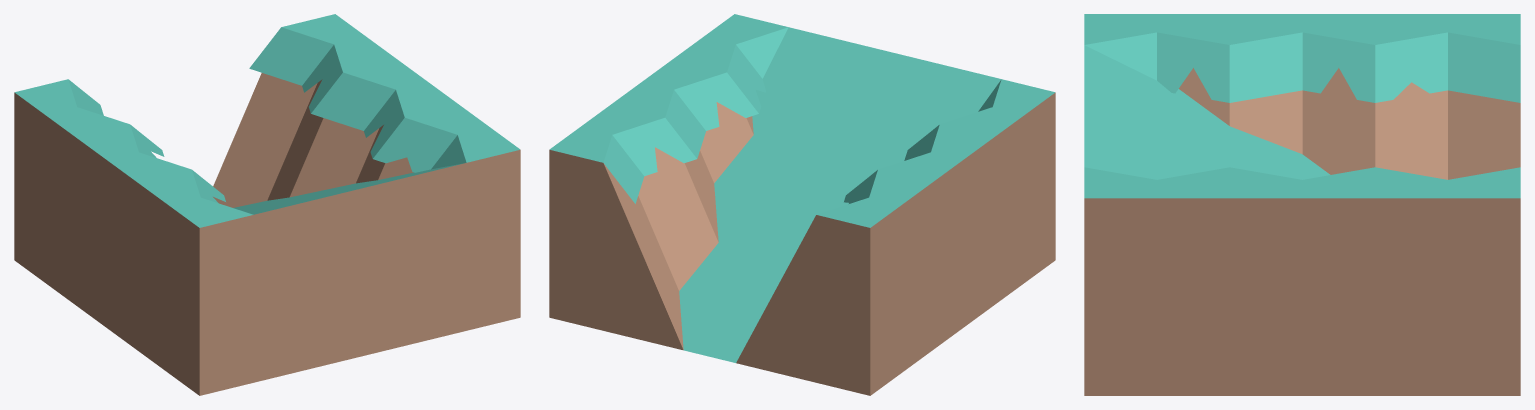
The model's file is cliff_blockSlopeHalfWalls_rock.glb.
The picture shows the model from 3 angles, left to right: view 1: azimuth 30°, elevation 25°; view 2: azimuth 150°, elevation 25°; view 3: azimuth 270°, elevation 25°; orthographic projection. The views are drawn at different scales.
Visible parts, largest first — view 1: cliff_blockSlopeHalfWalls_rock; view 2: cliff_blockSlopeHalfWalls_rock; view 3: cliff_blockSlopeHalfWalls_rock.
Boxes of the visible parts, bbox=[...] form: cliff_blockSlopeHalfWalls_rock: bbox=[14, 14, 520, 395]; cliff_blockSlopeHalfWalls_rock: bbox=[549, 14, 1055, 395]; cliff_blockSlopeHalfWalls_rock: bbox=[1084, 14, 1520, 395].
Bounding box in the file's own units: 1 × 0.5 × 1.
